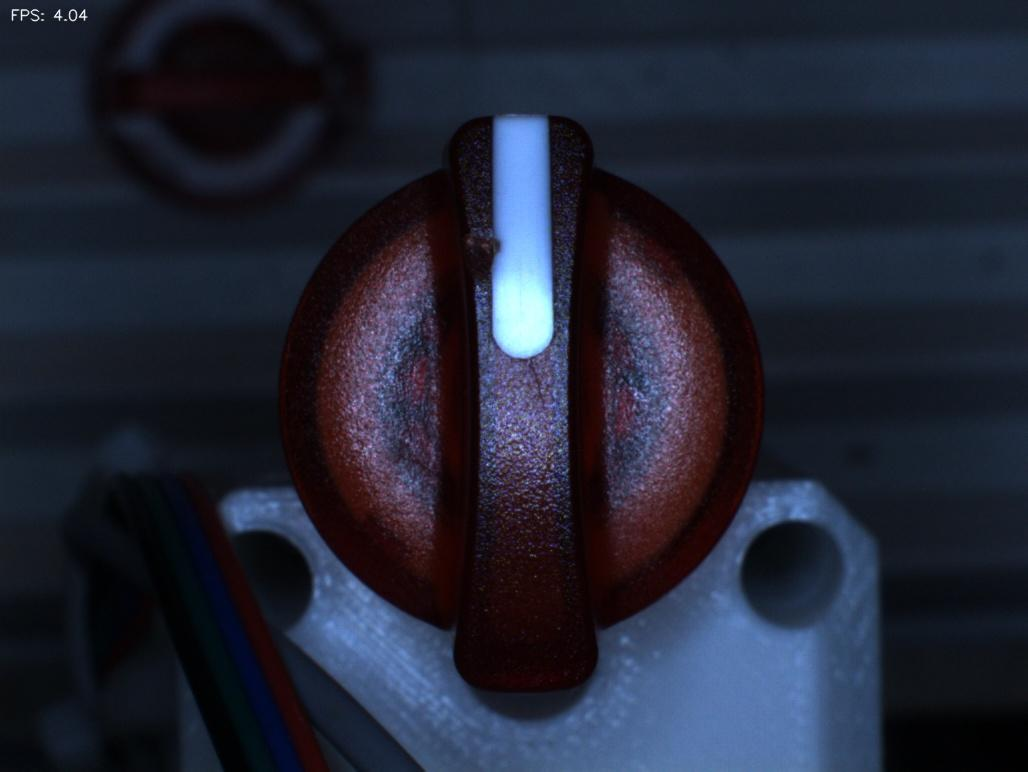Choc: (432, 209, 523, 302)
